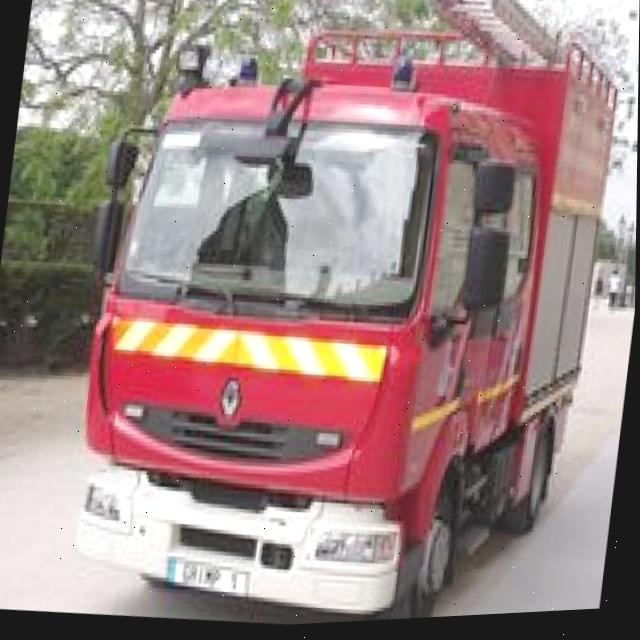emergency: (57, 0, 633, 637)
